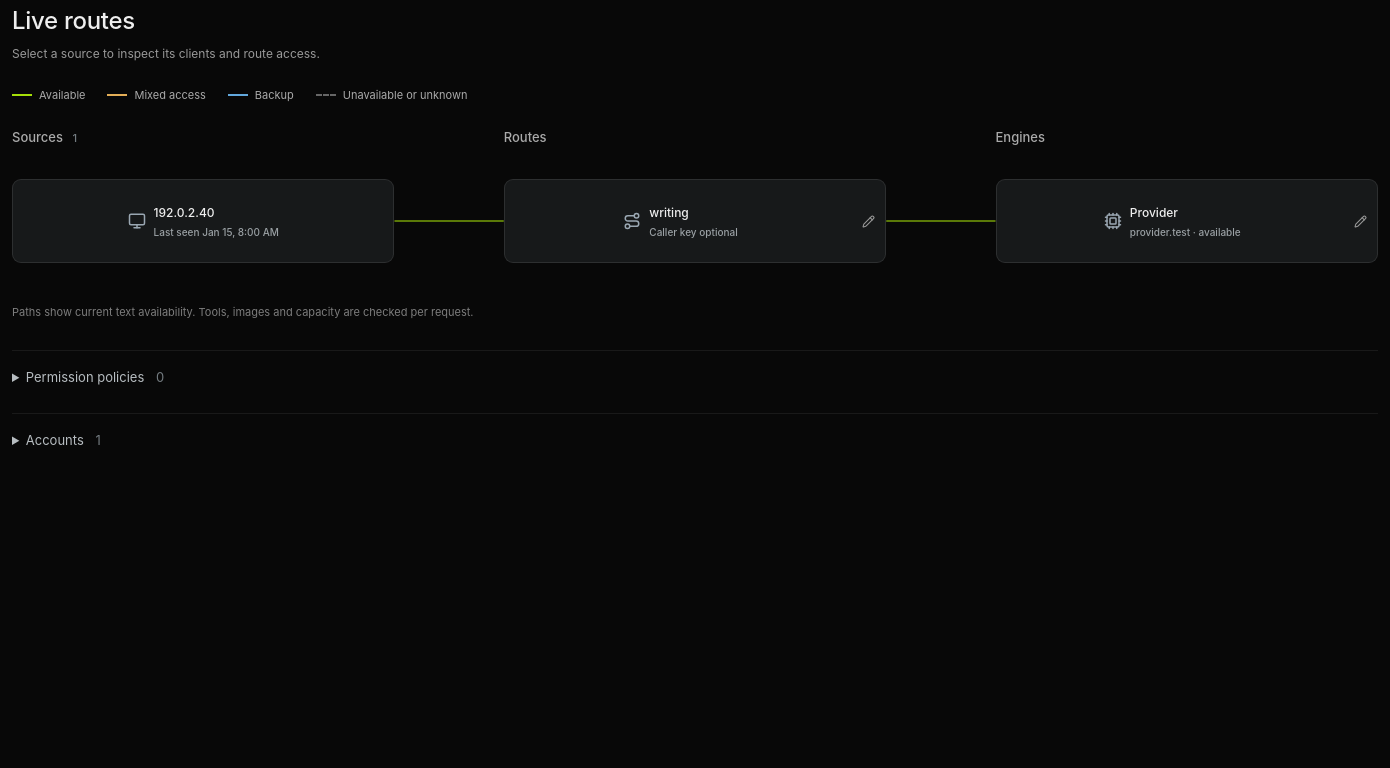
Test case: renders an Accounts group for account callers without looking them up as clients
Click the heading "Accounts 1" at (63, 440), box x1=26 y1=432 x2=101 y2=448
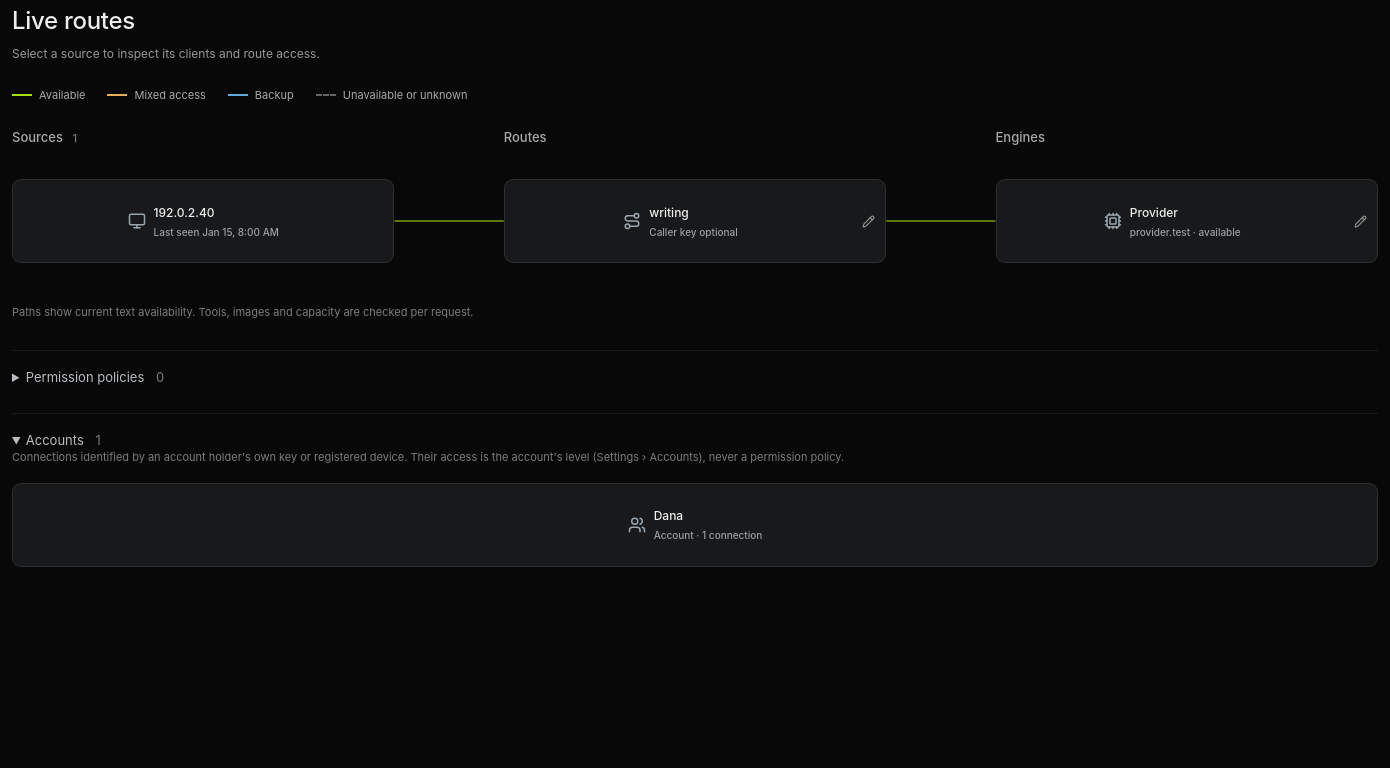
Result: the button with aria-label "Select account Dana" shows "Account · 1 connection"
Click the button with aria-label "Select account Dana" at (708, 535), box x1=13 y1=498 x2=1377 y2=551
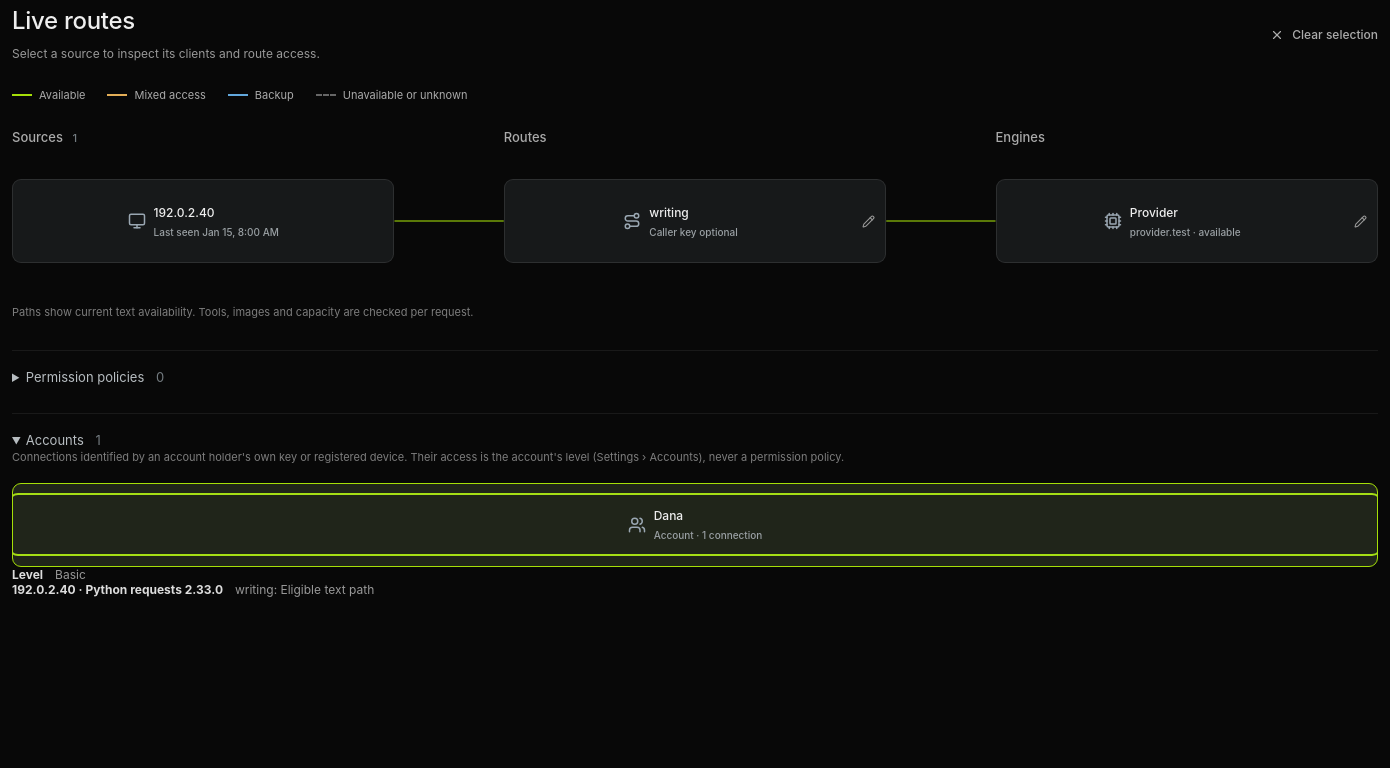
Result: the text "Basic" is shown at x1=55 y1=567 x2=86 y2=582
Result: the text "writing: Eligible text path" is shown at x1=235 y1=582 x2=374 y2=597
